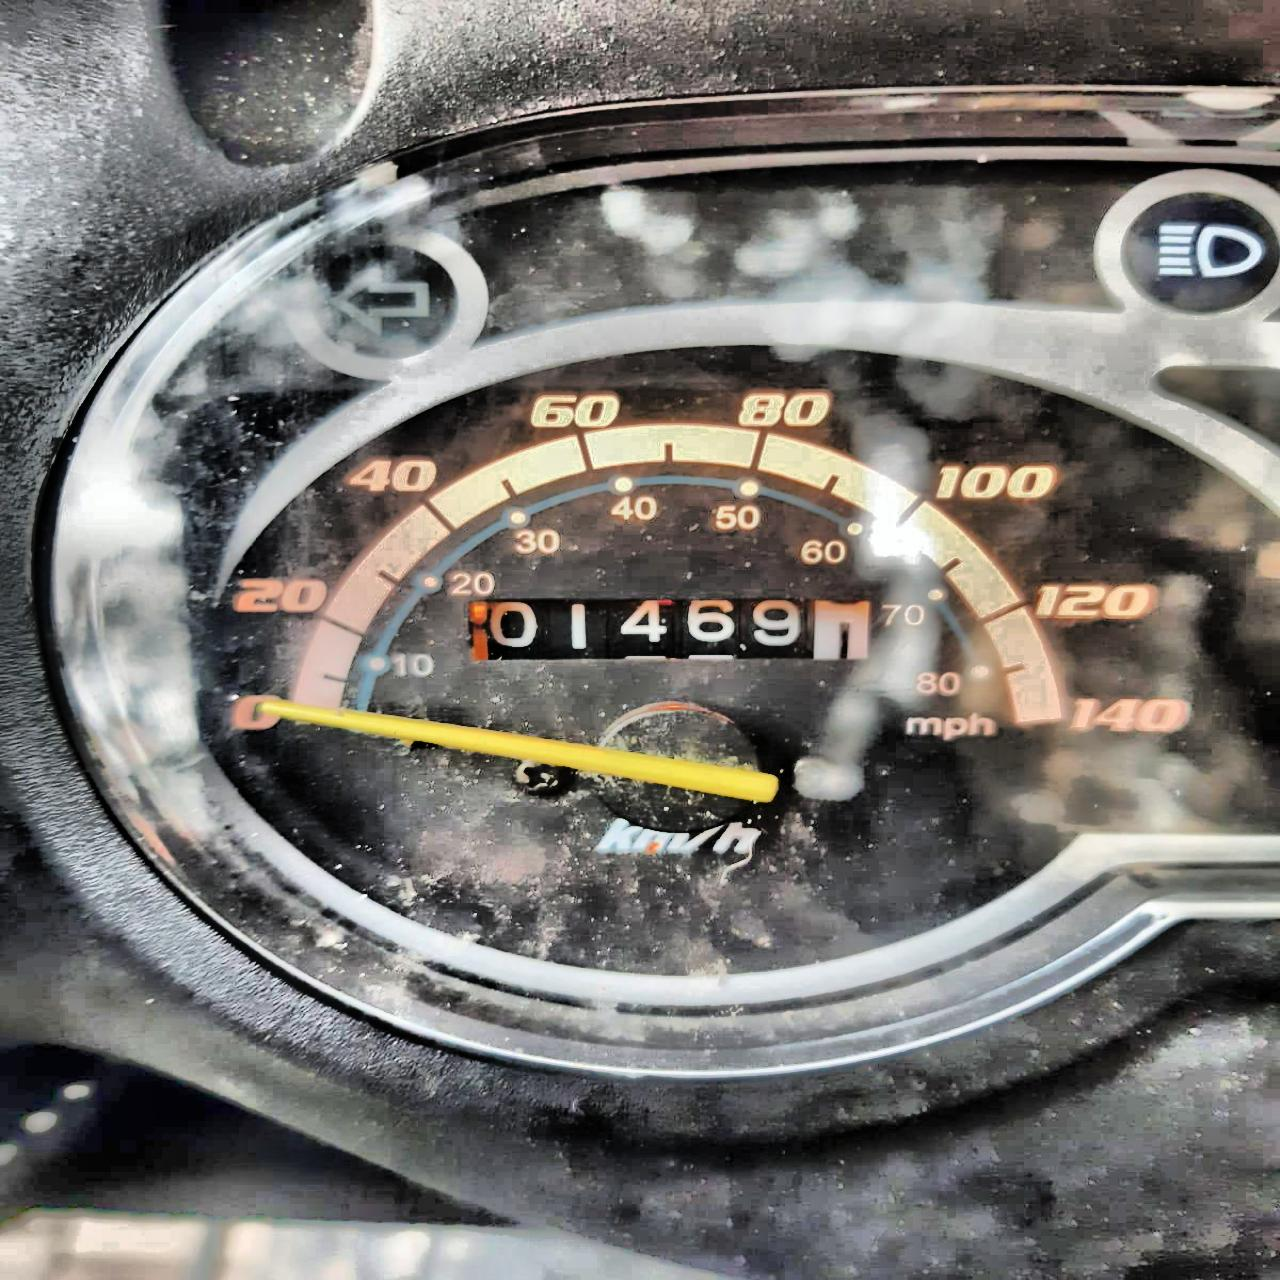0: (486, 599, 545, 651)
1: (823, 611, 860, 663), (563, 599, 595, 655)
4: (619, 598, 673, 645)
6: (686, 594, 736, 641)
9: (749, 600, 805, 645)
odometer: (467, 591, 883, 666)
